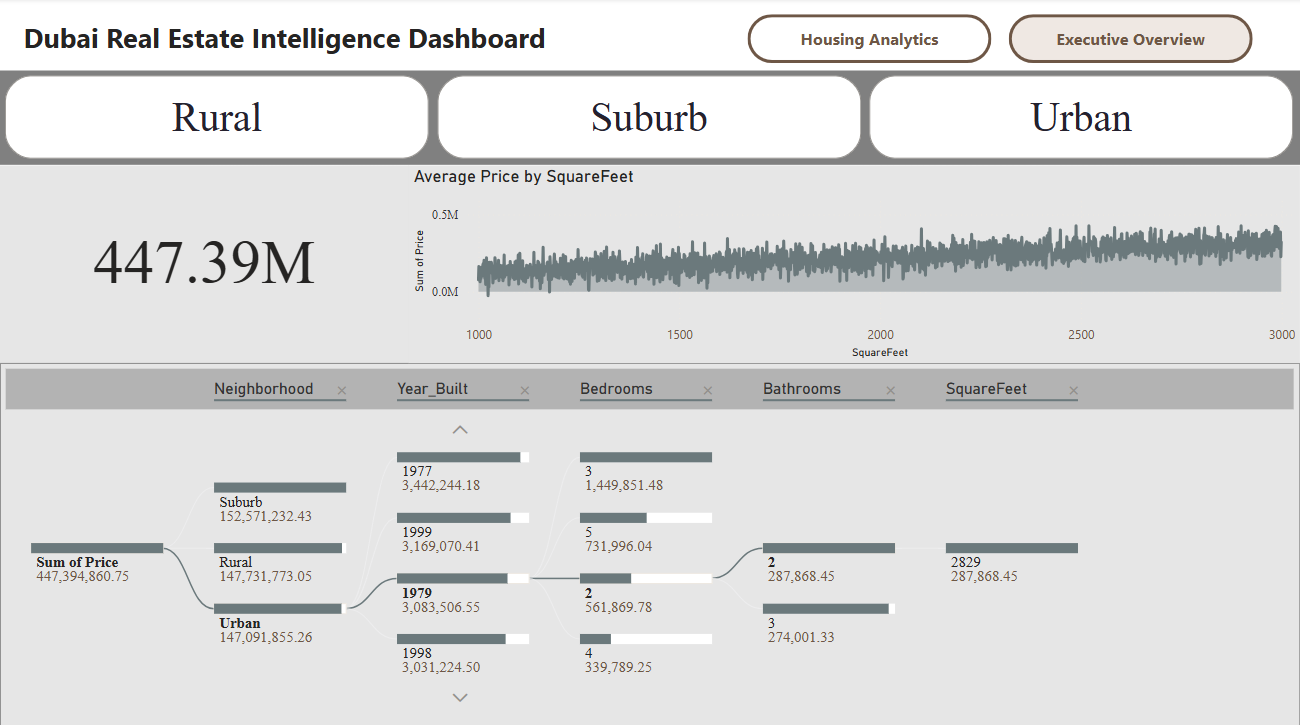

Layout of this report page (visuals, bound fields, positions):
{"tool":"powerbi","page":{"name":"Executive Overview","canvas":[1280,720],"ordinal":1},"visuals":[{"type":"advancedSlicerVisual","fields":{"Values":["DubaiHousing.Neighborhood"]},"box":[0,71.8,1279.4,92.6],"z":0},{"type":"card","fields":{"Values":["Sum(DubaiHousing.Price)"]},"box":[0,165,402.4,194.7],"z":1000},{"type":"decompositionTreeVisual","fields":{"Analyze":["Sum(DubaiHousing.Price)"],"ExplainBy":["DubaiHousing.Neighborhood","DubaiHousing.Year_Built","DubaiHousing.Bedrooms","DubaiHousing.Bathrooms","DubaiHousing.SquareFeet"]},"box":[0,359.7,1279.4,359.7],"z":2000},{"type":"stackedAreaChart","title":"Average Price by SquareFeet","fields":{"Category":["DubaiHousing.SquareFeet"],"Y":["Sum(DubaiHousing.Price)"]},"box":[402.4,165,877,194.7],"z":3000},{"type":"textbox","box":[16,16,528,48],"z":3001},{"type":"actionButton","box":[992,16,240,48],"z":3002},{"type":"actionButton","box":[736,16,240,48],"z":3003}]}

Visuals, with their boxes in screenshot pixels (x1, y1, x2, y2), scaled from the page's 1280x720 canvas onto the 1300x725 screenshot:
advancedSlicerVisual - DubaiHousing.Neighborhood: select_region(0, 72, 1299, 166)
card - Sum(DubaiHousing.Price): select_region(0, 166, 409, 362)
decompositionTreeVisual - Sum(DubaiHousing.Price) x DubaiHousing.Neighborhood: select_region(0, 362, 1299, 724)
"Average Price by SquareFeet" stackedAreaChart: select_region(409, 166, 1299, 362)
textbox: select_region(16, 16, 552, 64)
actionButton: select_region(1008, 16, 1251, 64)
actionButton: select_region(748, 16, 991, 64)
